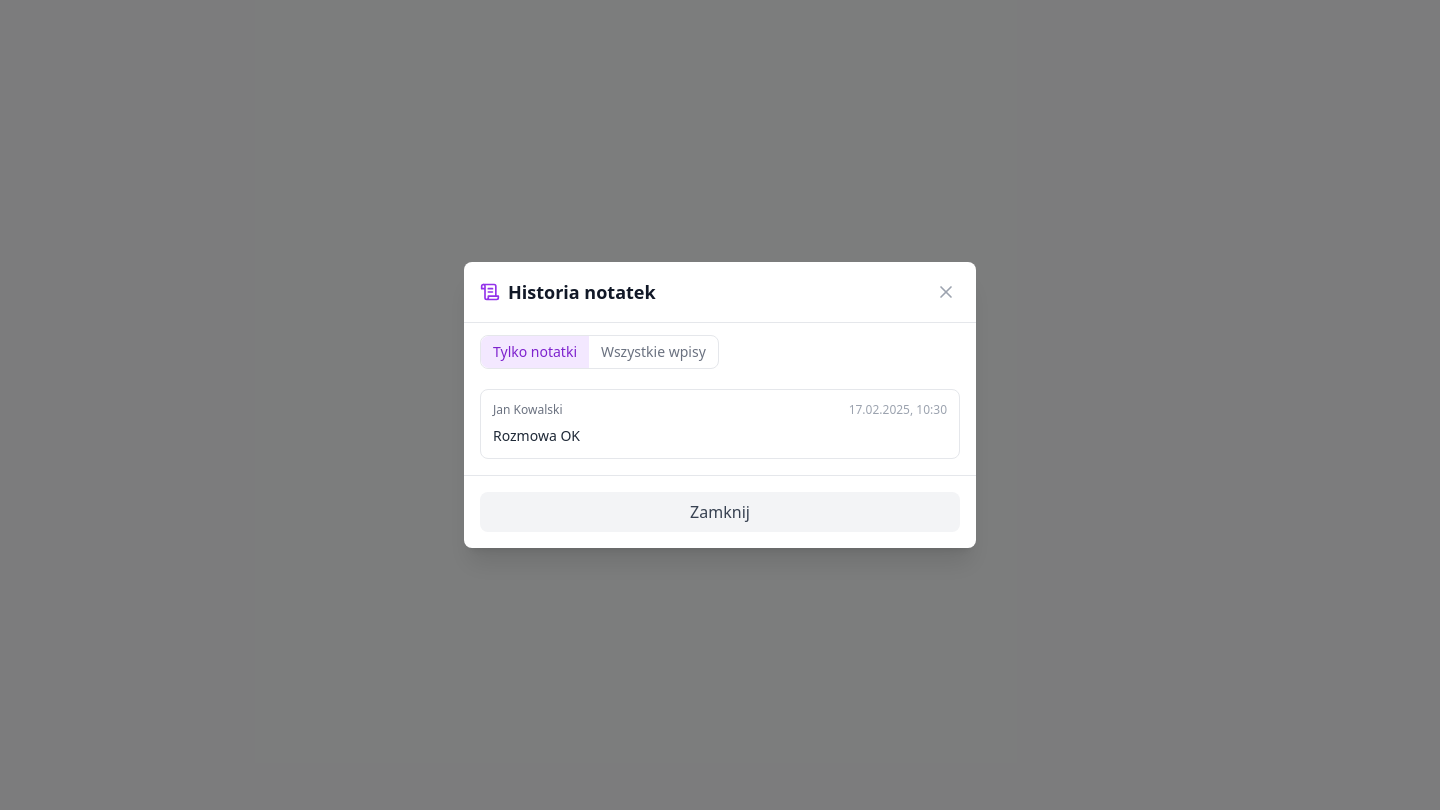
Test case: LogsDialog › Filter toggle › should show all entries when "Wszystkie wpisy" is clicked
This screenshot has width=1440, height=810.
Switch to all entries
Click the button "Wszystkie wpisy" at (653, 352), box [589,336,718,368]
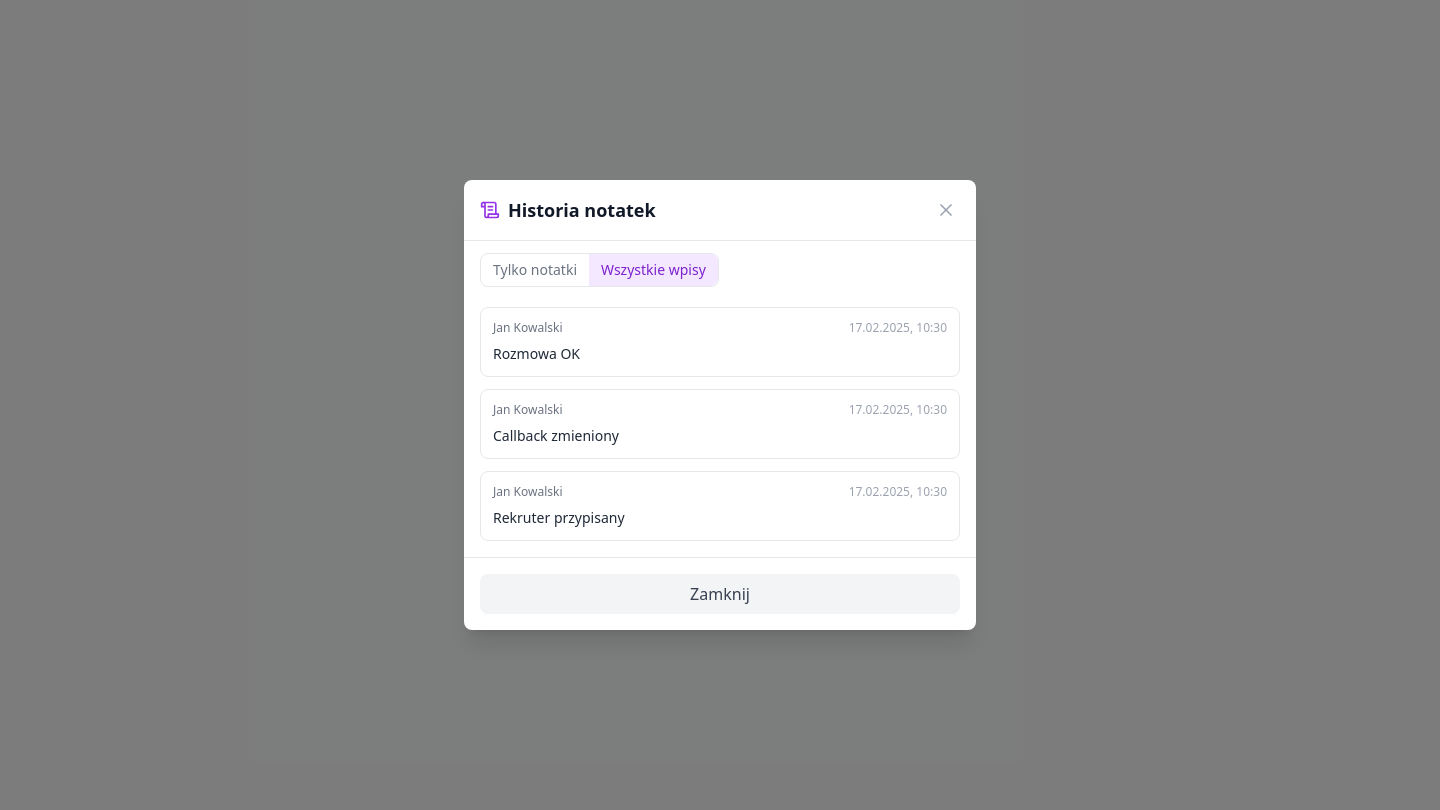
Expected: the text "Rozmowa OK" is shown, [493,344,580,363]
Expected: the text "Callback zmieniony" is shown, [493,426,619,445]
Expected: the text "Rekruter przypisany" is shown, [493,508,625,527]
